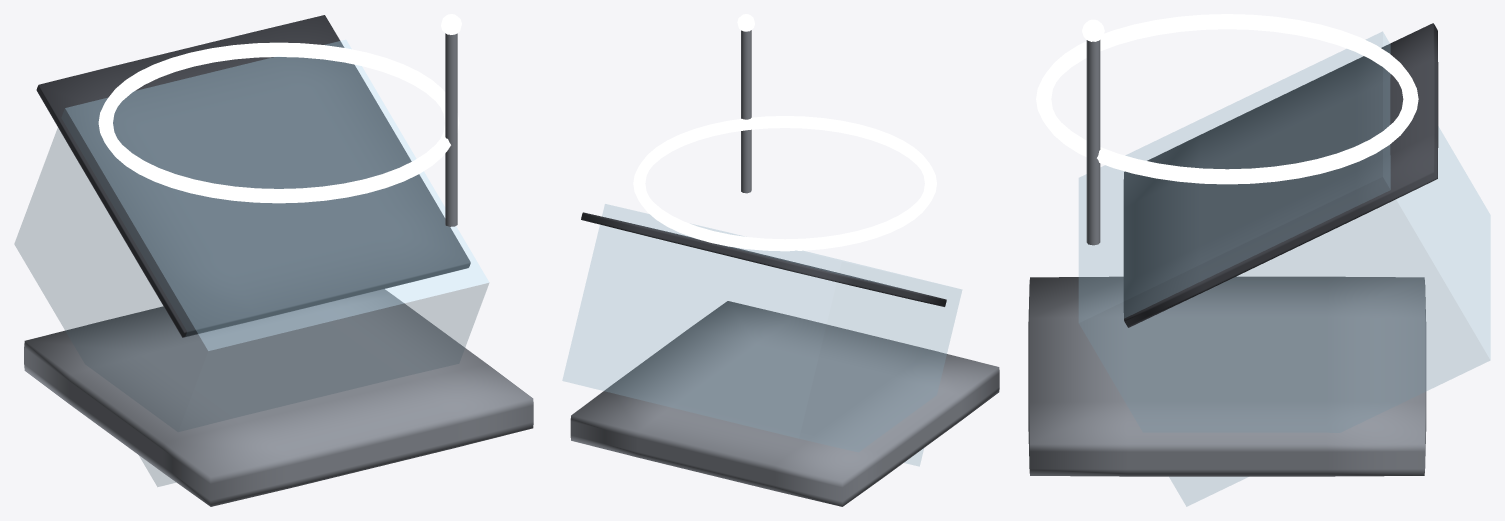
Rendered from crown_b.glb.
3 renders of one model, left to right at view 1: azimuth 30°, elevation 25°; view 2: azimuth 150°, elevation 25°; view 3: azimuth 270°, elevation 25°, orthographic. The views are drawn at different scales.
Parts seen in each view (by area): view 1: crown_b; view 2: crown_b; view 3: crown_b.
Part boxes in pixels (<box>): crown_b: <box>14,14,533,506</box>; crown_b: <box>562,14,999,506</box>; crown_b: <box>1028,14,1490,506</box>.
Size of the model in its own units: 10.4 by 13.56 by 12.08.
